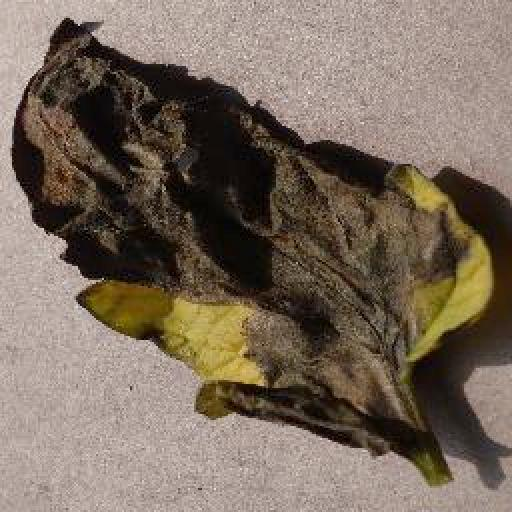disease_tomato: (10, 24, 492, 458)
